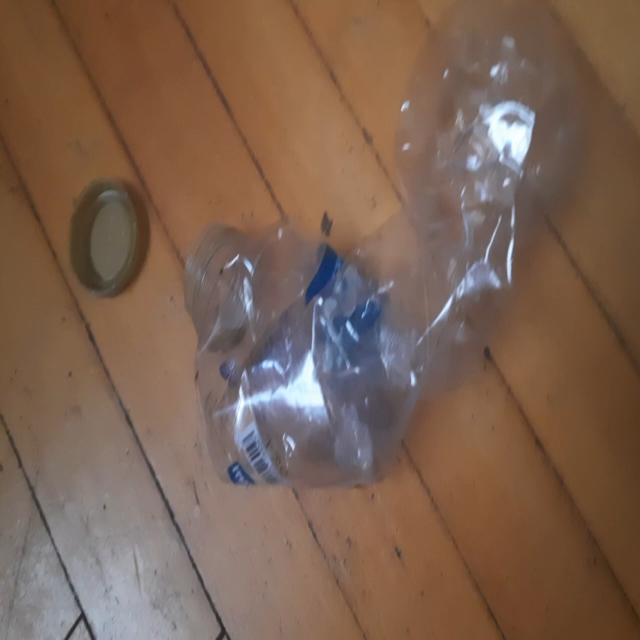Plastic: (184, 32, 554, 490), (68, 179, 151, 300)
